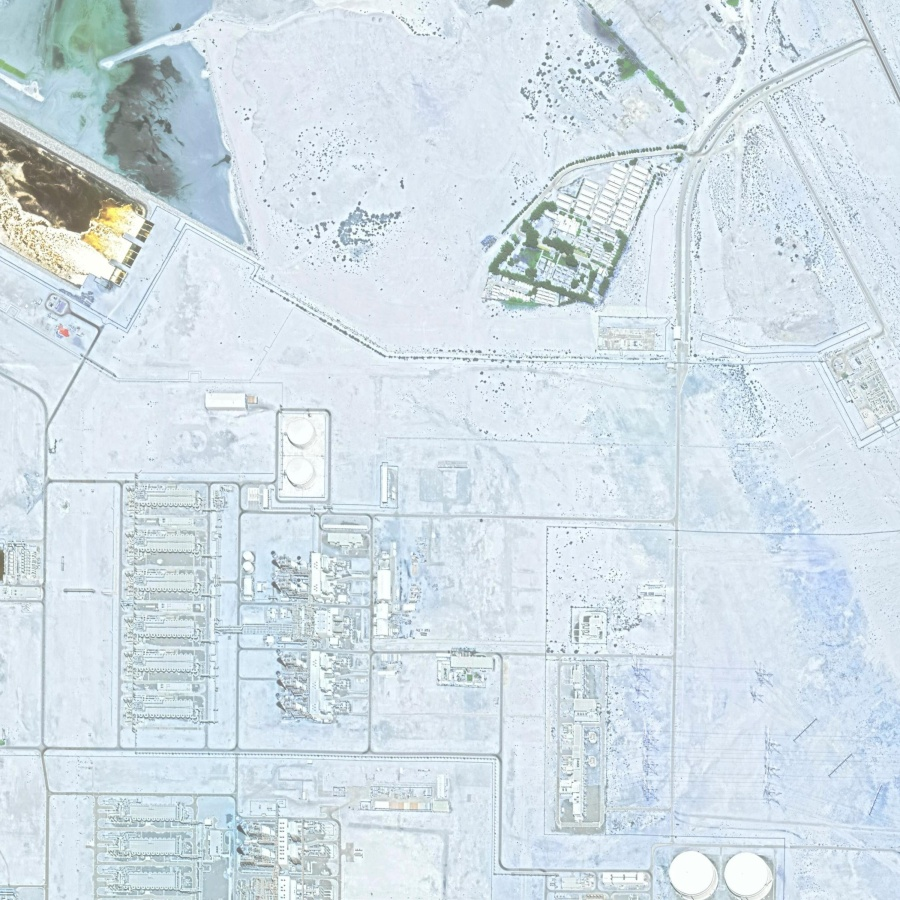PowerPlant: (118, 385, 450, 729)
